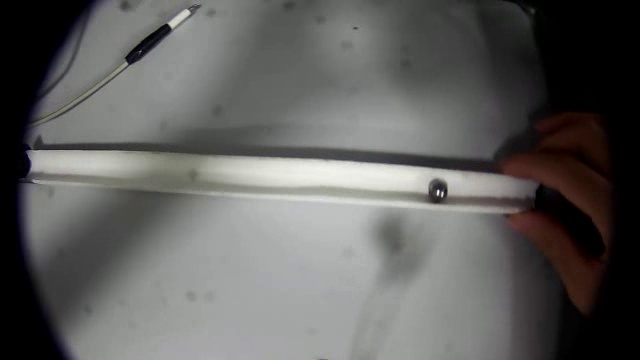gangzhu: (437, 183, 461, 207)
